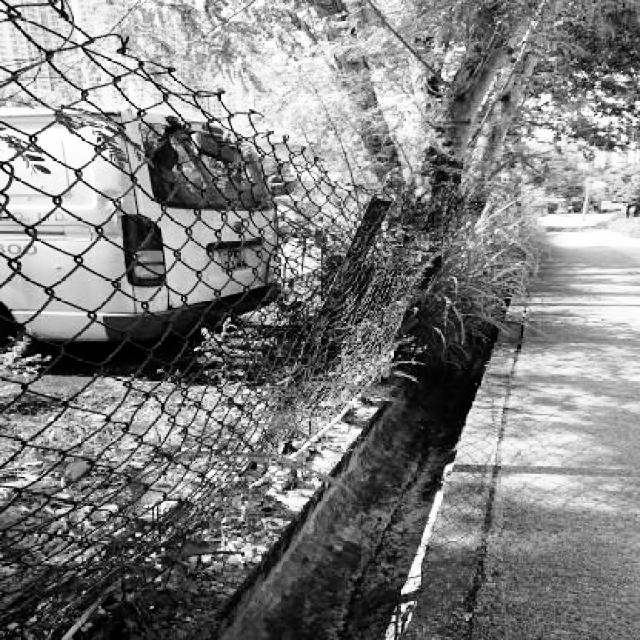anomaly-fence: (262, 98, 502, 444)
